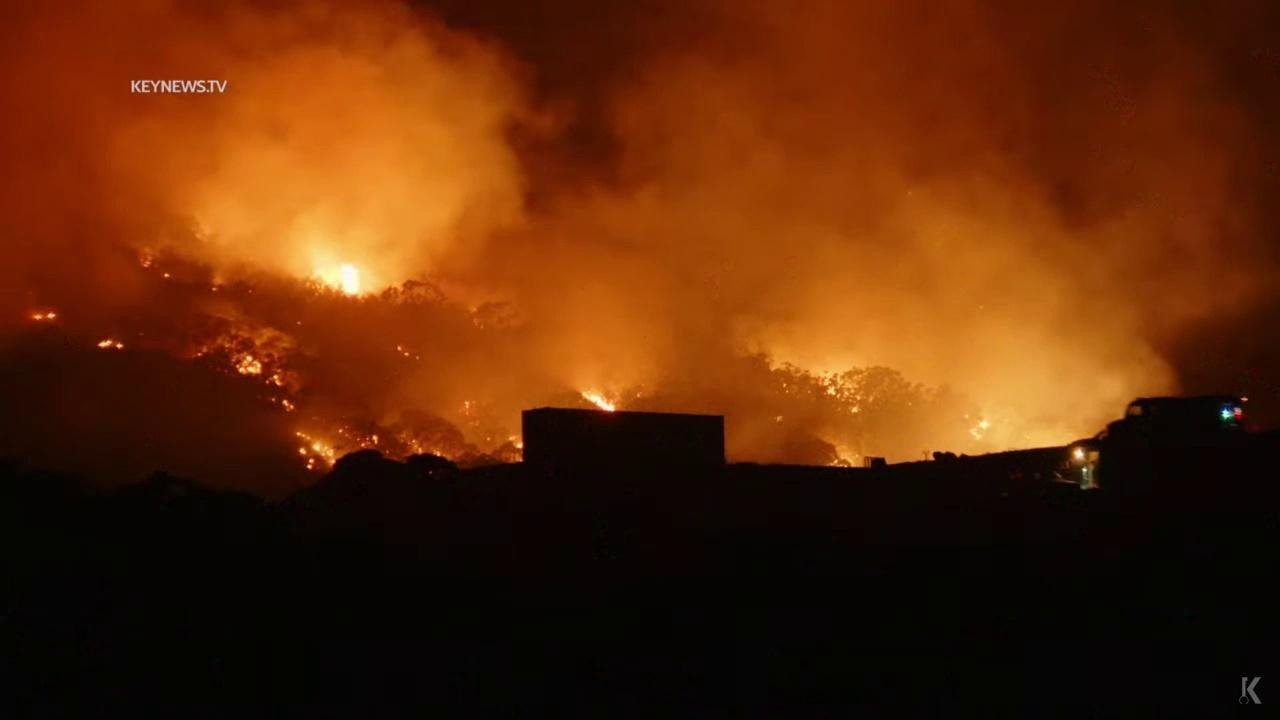fire: (293, 426, 338, 472), (334, 261, 364, 298), (580, 388, 616, 413), (230, 349, 263, 376), (969, 418, 991, 441), (94, 335, 125, 351), (29, 310, 57, 322), (279, 397, 298, 413), (508, 433, 524, 452), (268, 370, 284, 388), (371, 432, 381, 446)
smoke: (0, 0, 1280, 516)
